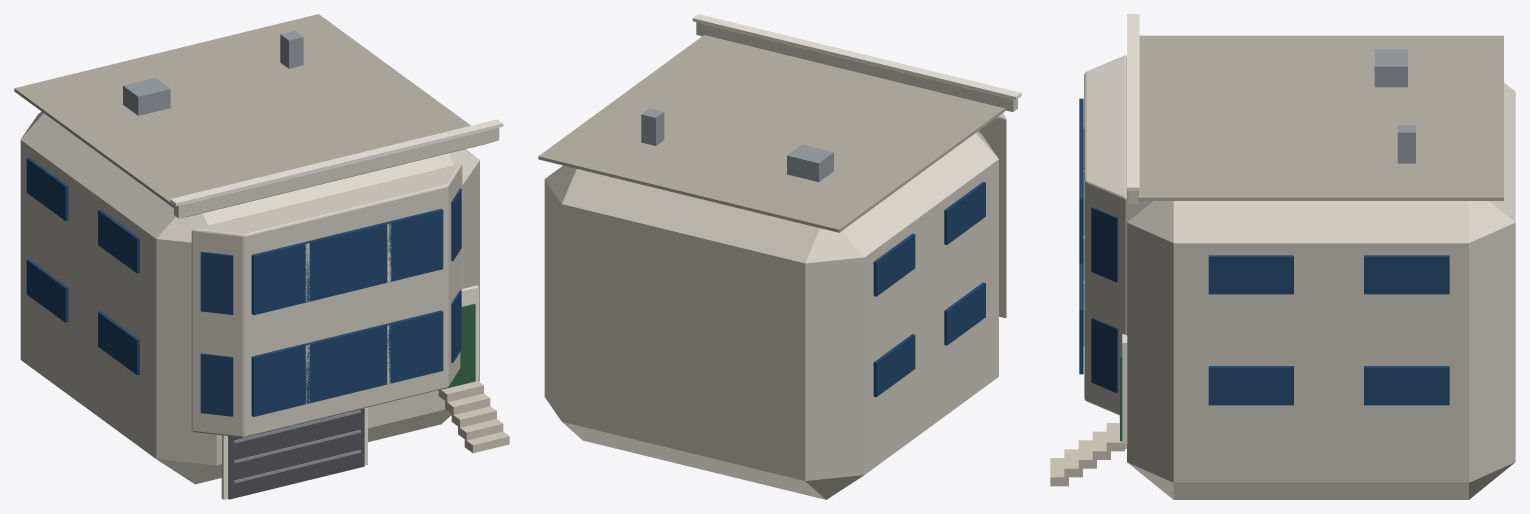
File: rich_w11_plain.glb
3 renders of one model, left to right at view 1: azimuth 30°, elevation 25°; view 2: azimuth 150°, elevation 25°; view 3: azimuth 270°, elevation 25°, orthographic. The views are drawn at different scales.
Visible parts, largest first — view 1: walls, roofslab, bay, bw, bw.001, gdoor, pp, pcap, bwa, bwa.002, sb.006, sb.002 (+14 smaller); view 2: walls, roofslab, pp, pcap, bay, sb.006, sb.002, sb, sb.004, hvac, pipe; view 3: walls, roofslab, bay, sb.003, sb.007, sb.001, sb.005, pcap, bwa.001, bwa.003, hvac, bw.001 (+3 smaller).
Part boxes in pixels (box(x1,y1,x2,y2)): walls: box(20, 111, 479, 484); roofslab: box(14, 14, 470, 207); bay: box(191, 164, 462, 437); bw: box(251, 310, 443, 416); bw.001: box(251, 208, 443, 315); gdoor: box(228, 408, 364, 499); pp: box(174, 127, 499, 218); pcap: box(170, 119, 503, 206); bwa: box(200, 353, 233, 416); bwa.002: box(200, 251, 233, 314); sb.006: box(26, 157, 68, 221); sb.002: box(26, 259, 68, 322); walls: box(544, 131, 998, 499); roofslab: box(538, 35, 1005, 232); pp: box(696, 22, 1017, 111); pcap: box(692, 14, 1021, 99); bay: box(978, 113, 1006, 317); sb.006: box(873, 233, 915, 296); sb.002: box(873, 334, 915, 397); sb: box(944, 282, 985, 345); sb.004: box(944, 182, 985, 244); hvac: box(787, 144, 833, 182); pipe: box(641, 108, 664, 145); walls: box(1127, 82, 1515, 499); roofslab: box(1138, 35, 1503, 200); bay: box(1084, 55, 1126, 415); sb.003: box(1364, 366, 1449, 405); sb.007: box(1364, 255, 1449, 294); sb.001: box(1208, 366, 1293, 405); sb.005: box(1208, 255, 1293, 294); pcap: box(1127, 14, 1139, 190); bwa.001: box(1091, 318, 1118, 392); bwa.003: box(1091, 207, 1118, 282); hvac: box(1374, 49, 1407, 87); bw.001: box(1079, 98, 1083, 263).
Size of the model in its own units: 11.2 by 10.4 by 12.57.
